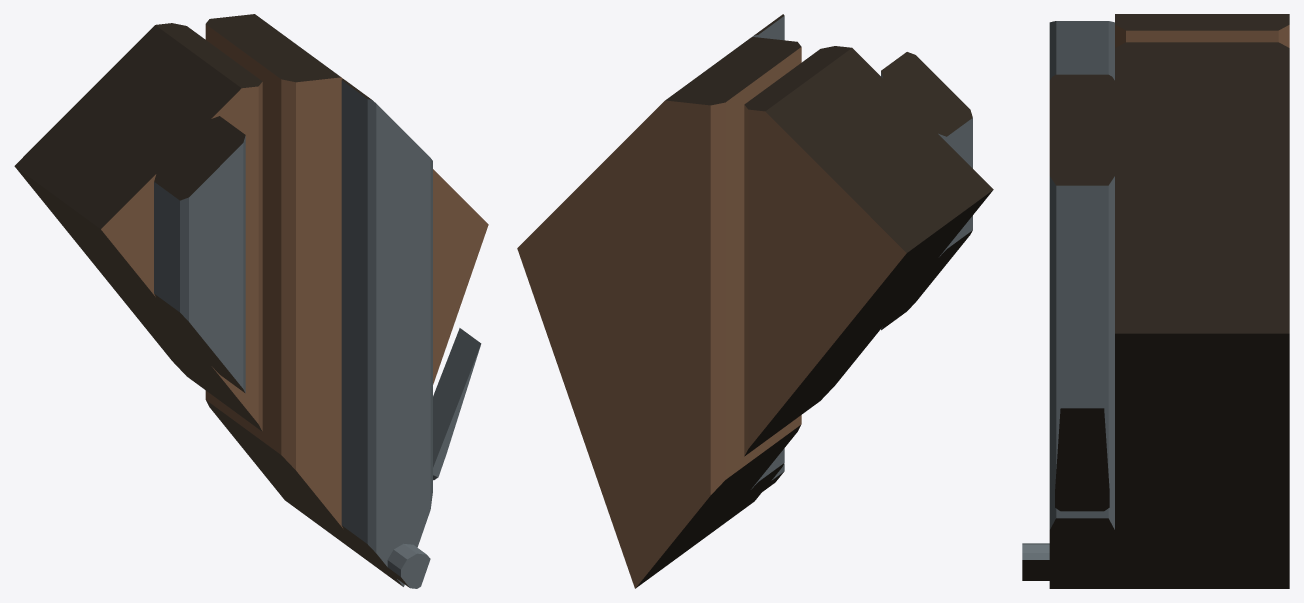
The model's file is SM_DoorShard_01_39.fbx.
The picture shows the model from 3 angles, left to right: view 1: azimuth 30°, elevation 25°; view 2: azimuth 150°, elevation 25°; view 3: azimuth 270°, elevation 25°; orthographic projection.
Visible parts, largest first — view 1: SM_DoorShard_01_39; view 2: SM_DoorShard_01_39; view 3: SM_DoorShard_01_39.
Boxes of the visible parts, bbox=[...] form: SM_DoorShard_01_39: bbox=[14, 14, 488, 588]; SM_DoorShard_01_39: bbox=[517, 14, 993, 588]; SM_DoorShard_01_39: bbox=[1022, 14, 1289, 588].
Size of the model in its own units: 41.38 by 24.5 by 51.7.
